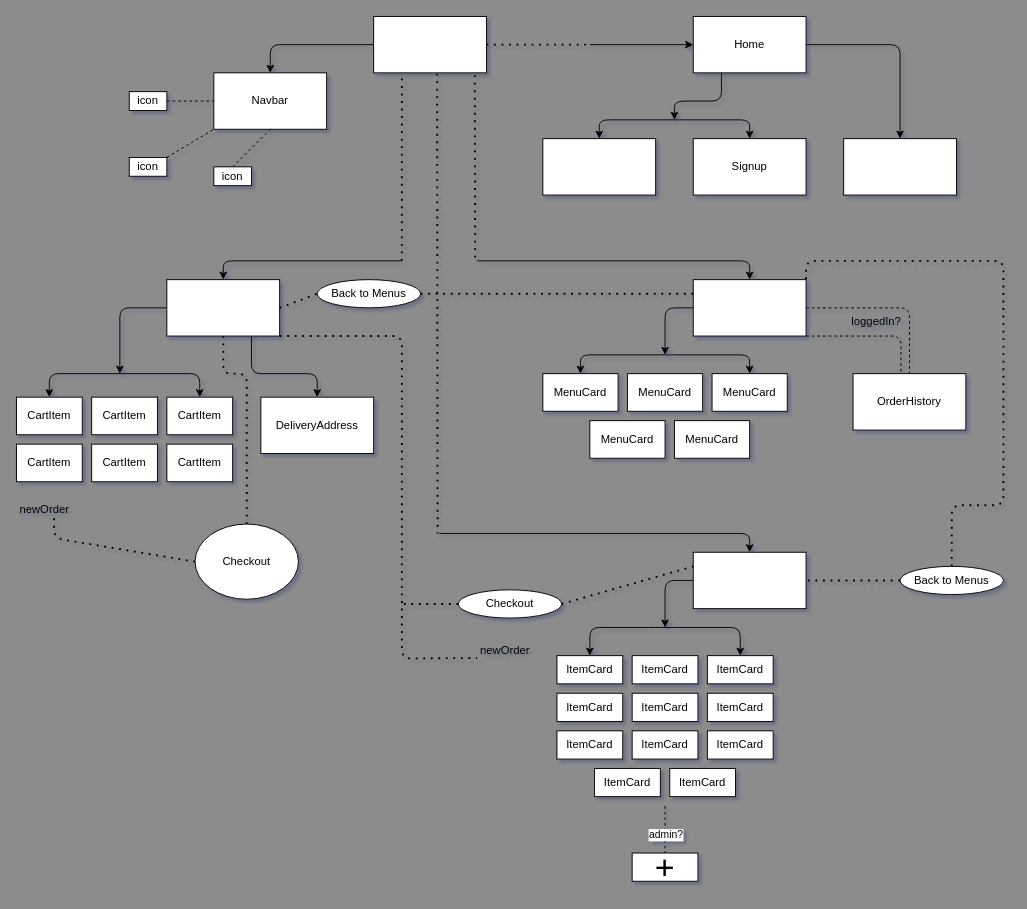
This 1027x909 diagram has some shape labels left out. Here are the shapes that lost their labels. From the top down, the box of each, then its label:
(373, 16, 486, 73): App
(542, 138, 656, 195): Login
(843, 138, 956, 195): CTA
(166, 279, 280, 336): Cart
(692, 279, 806, 336): Menus
(692, 551, 806, 609): Items
